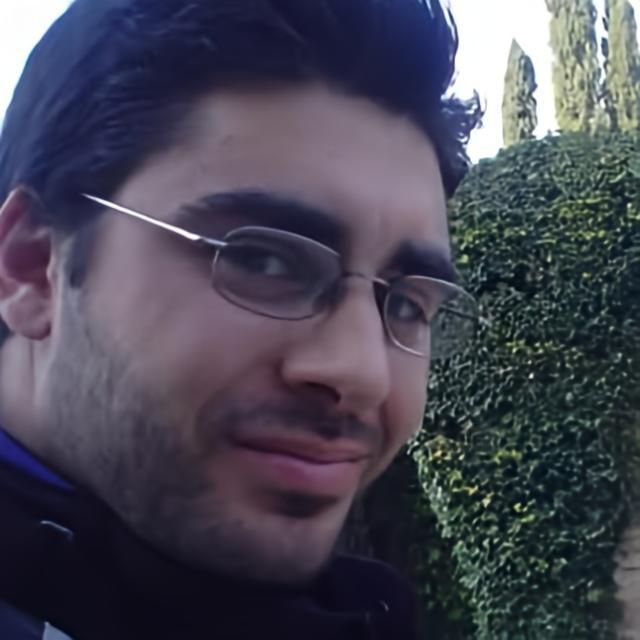content: (51, 49, 457, 586)
